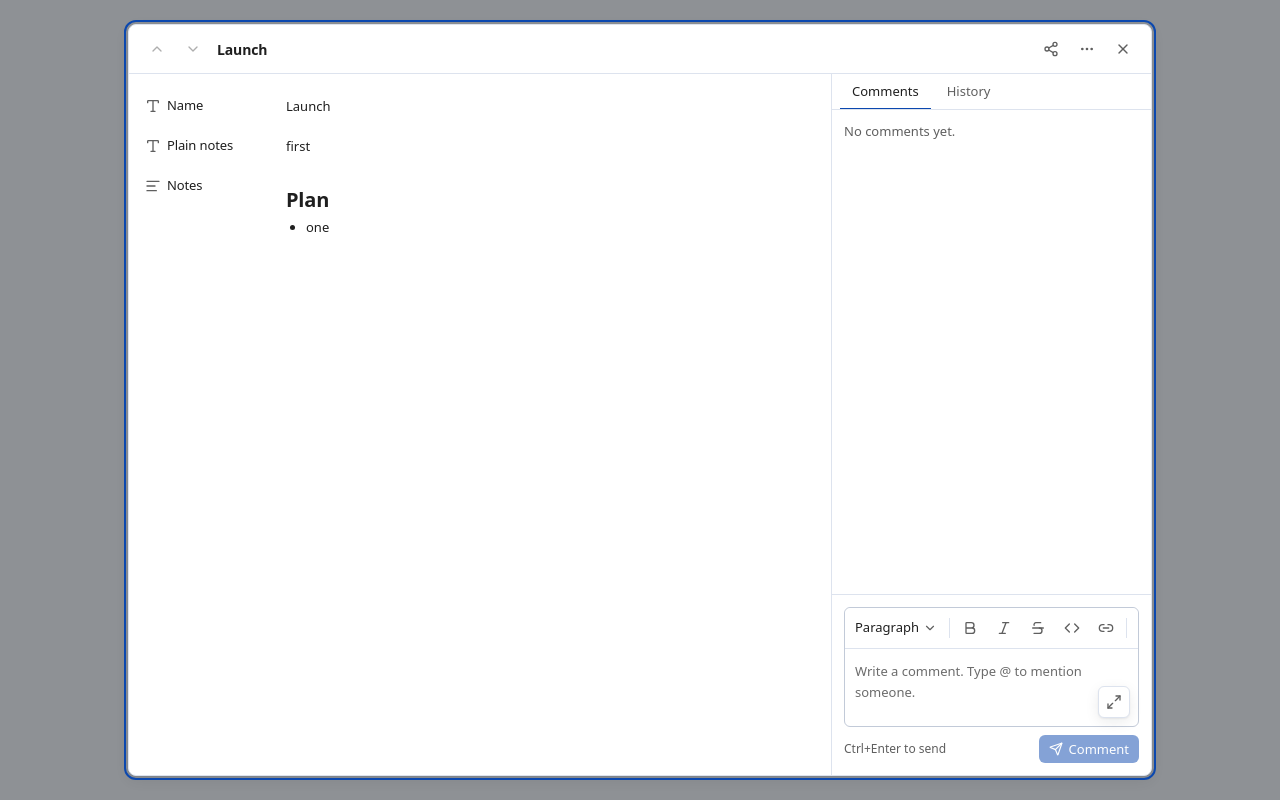
ExpandedRecord: multiline text saves while typing › opens the rich text editor lazily, saves its Markdown while typed, and keeps the editor mounted
Click the button with aria-label "Edit Notes" at (308, 211), box [286,186,329,236]
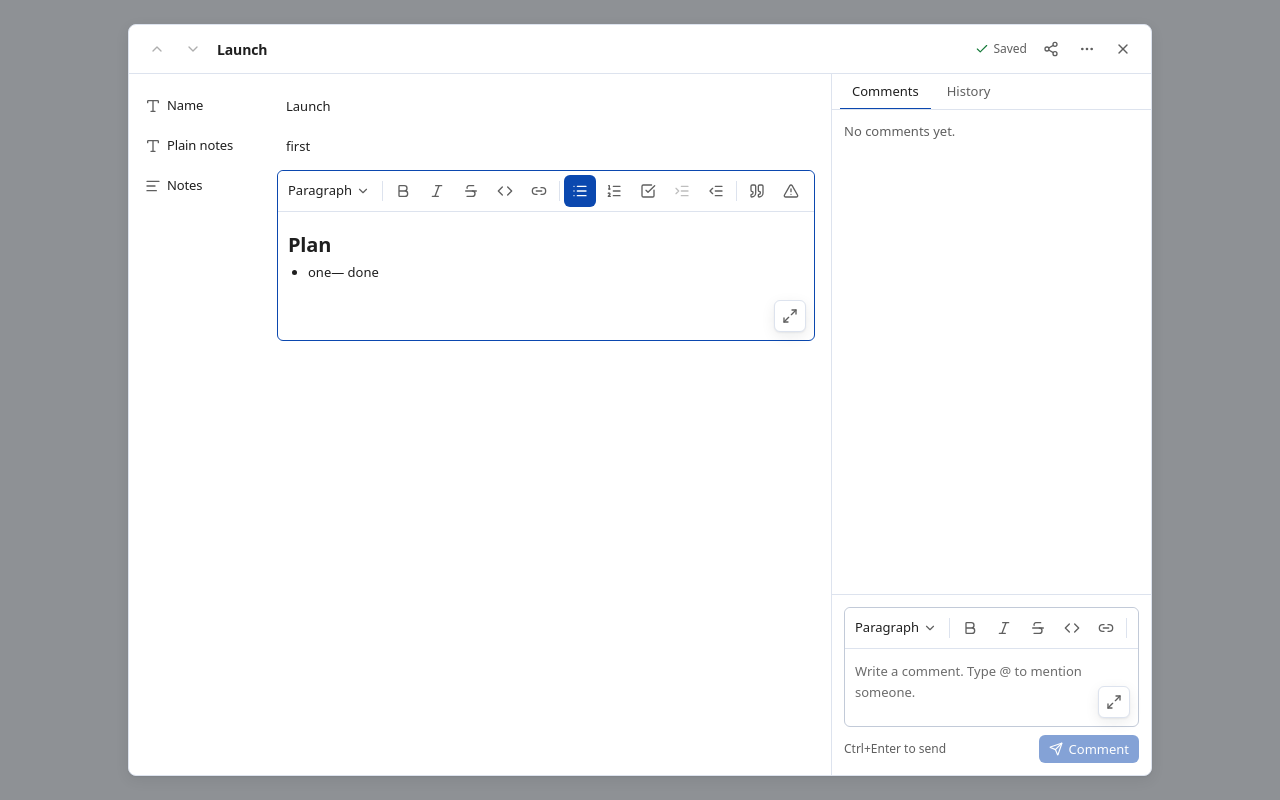
Expected: the heading "Plan" is shown, [288,231,331,258]
Expected: the element named "Formatting" is shown, [278,171,814,212]
Expected: the field labelled "Plan one— done" is shown, [288,231,379,281]
